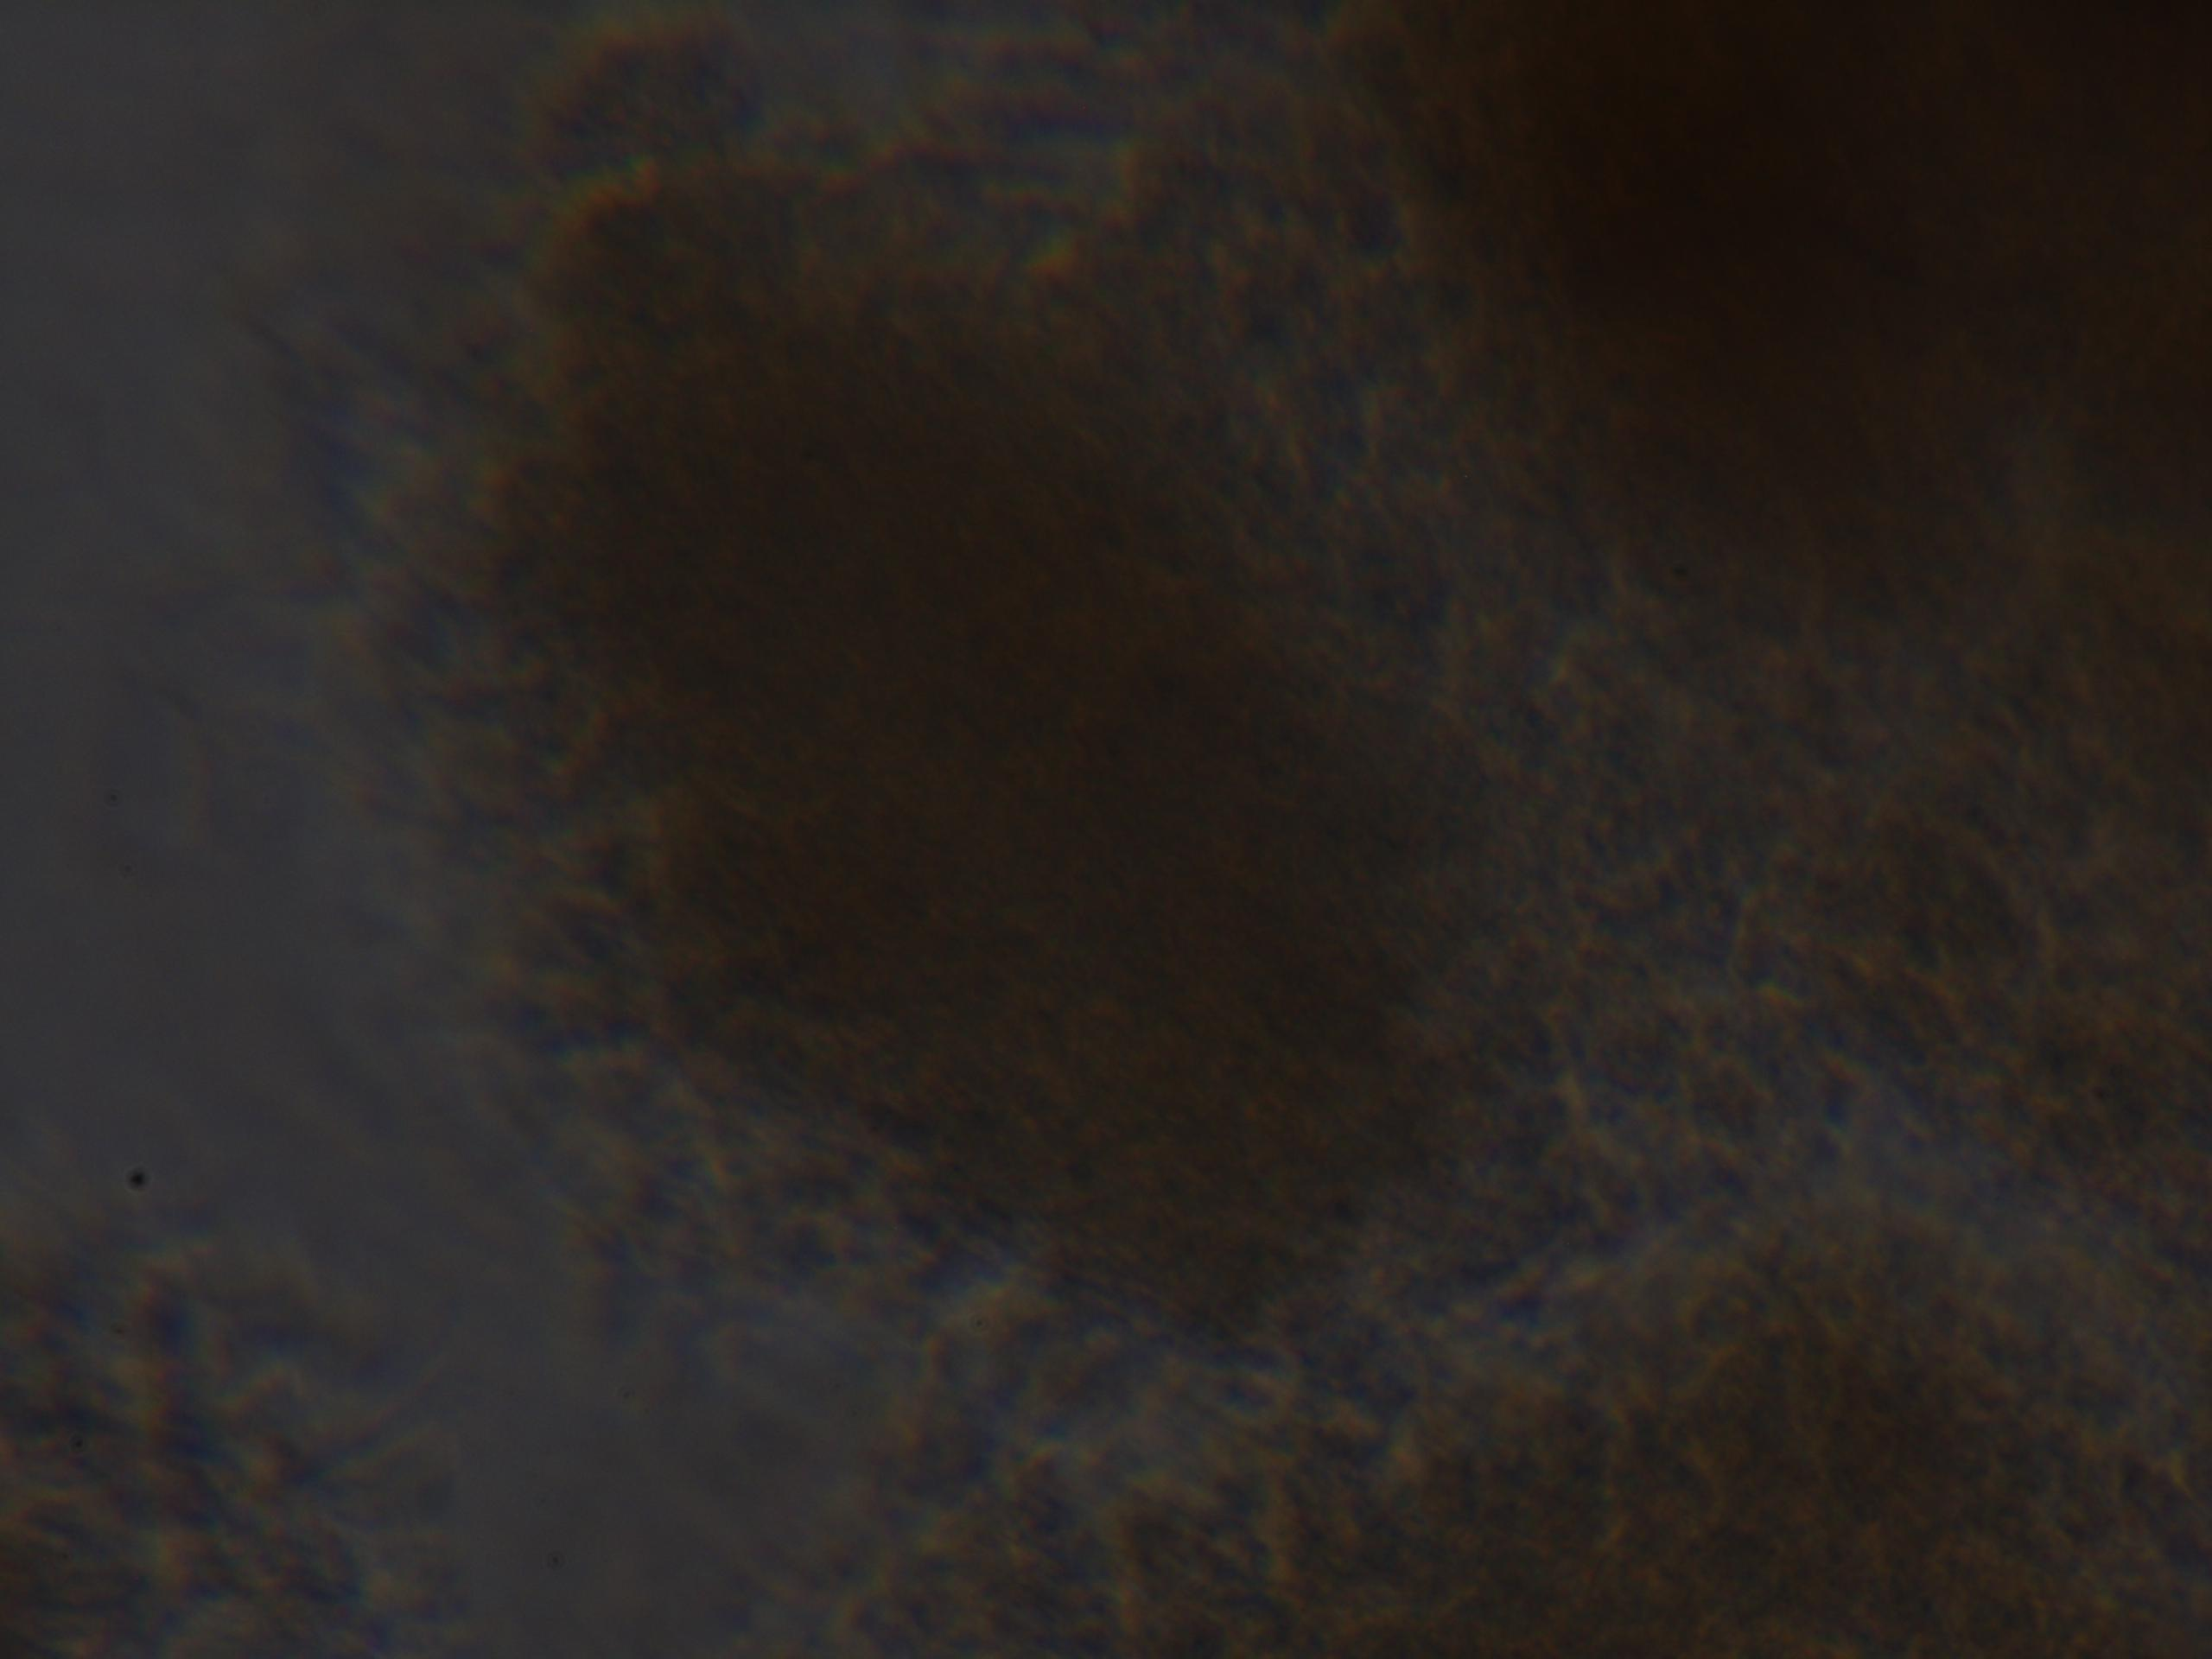spherical_floc: (456, 181, 1536, 1351)
